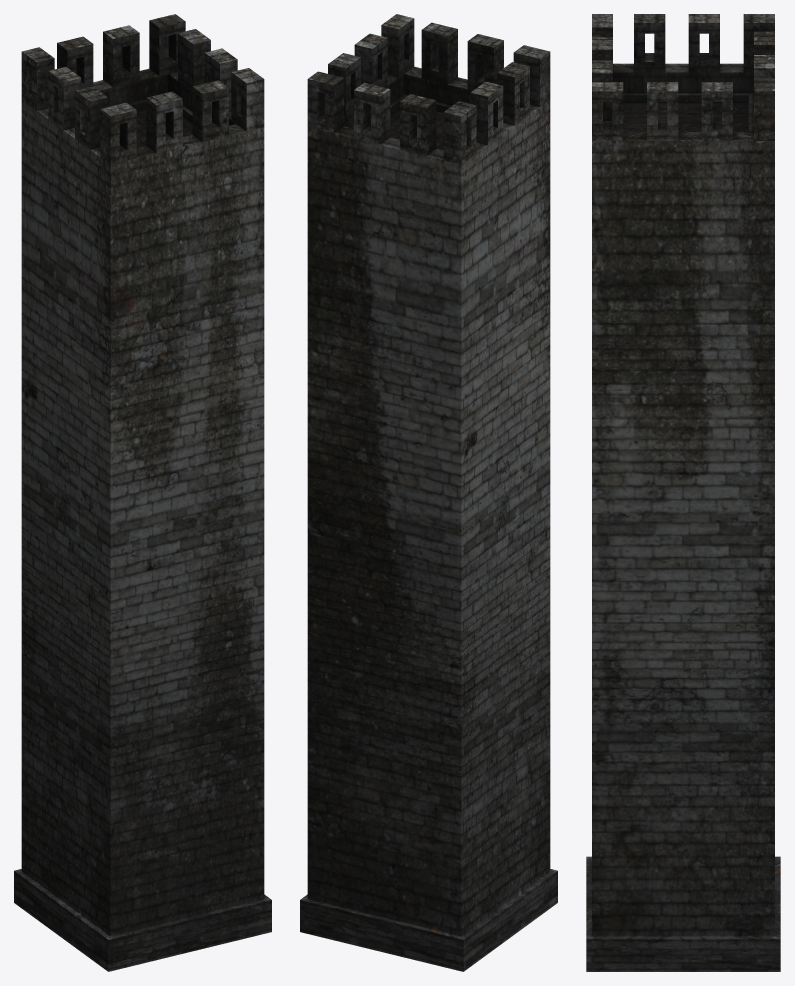
File: Tower A.fbx
3 views of the same model, side by side, from view 1: azimuth 30°, elevation 25°; view 2: azimuth 150°, elevation 25°; view 3: azimuth 270°, elevation 25° (orthographic). The views are drawn at different scales.
Parts seen in each view (by area): view 1: Tower; view 2: Tower; view 3: Tower.
Boxes of the visible parts, x1=… form: Tower: x1=14, y1=14, x2=271, y2=971; Tower: x1=300, y1=14, x2=557, y2=971; Tower: x1=586, y1=14, x2=780, y2=971.
Bounding box in the file's own units: 106 × 106 × 530.
